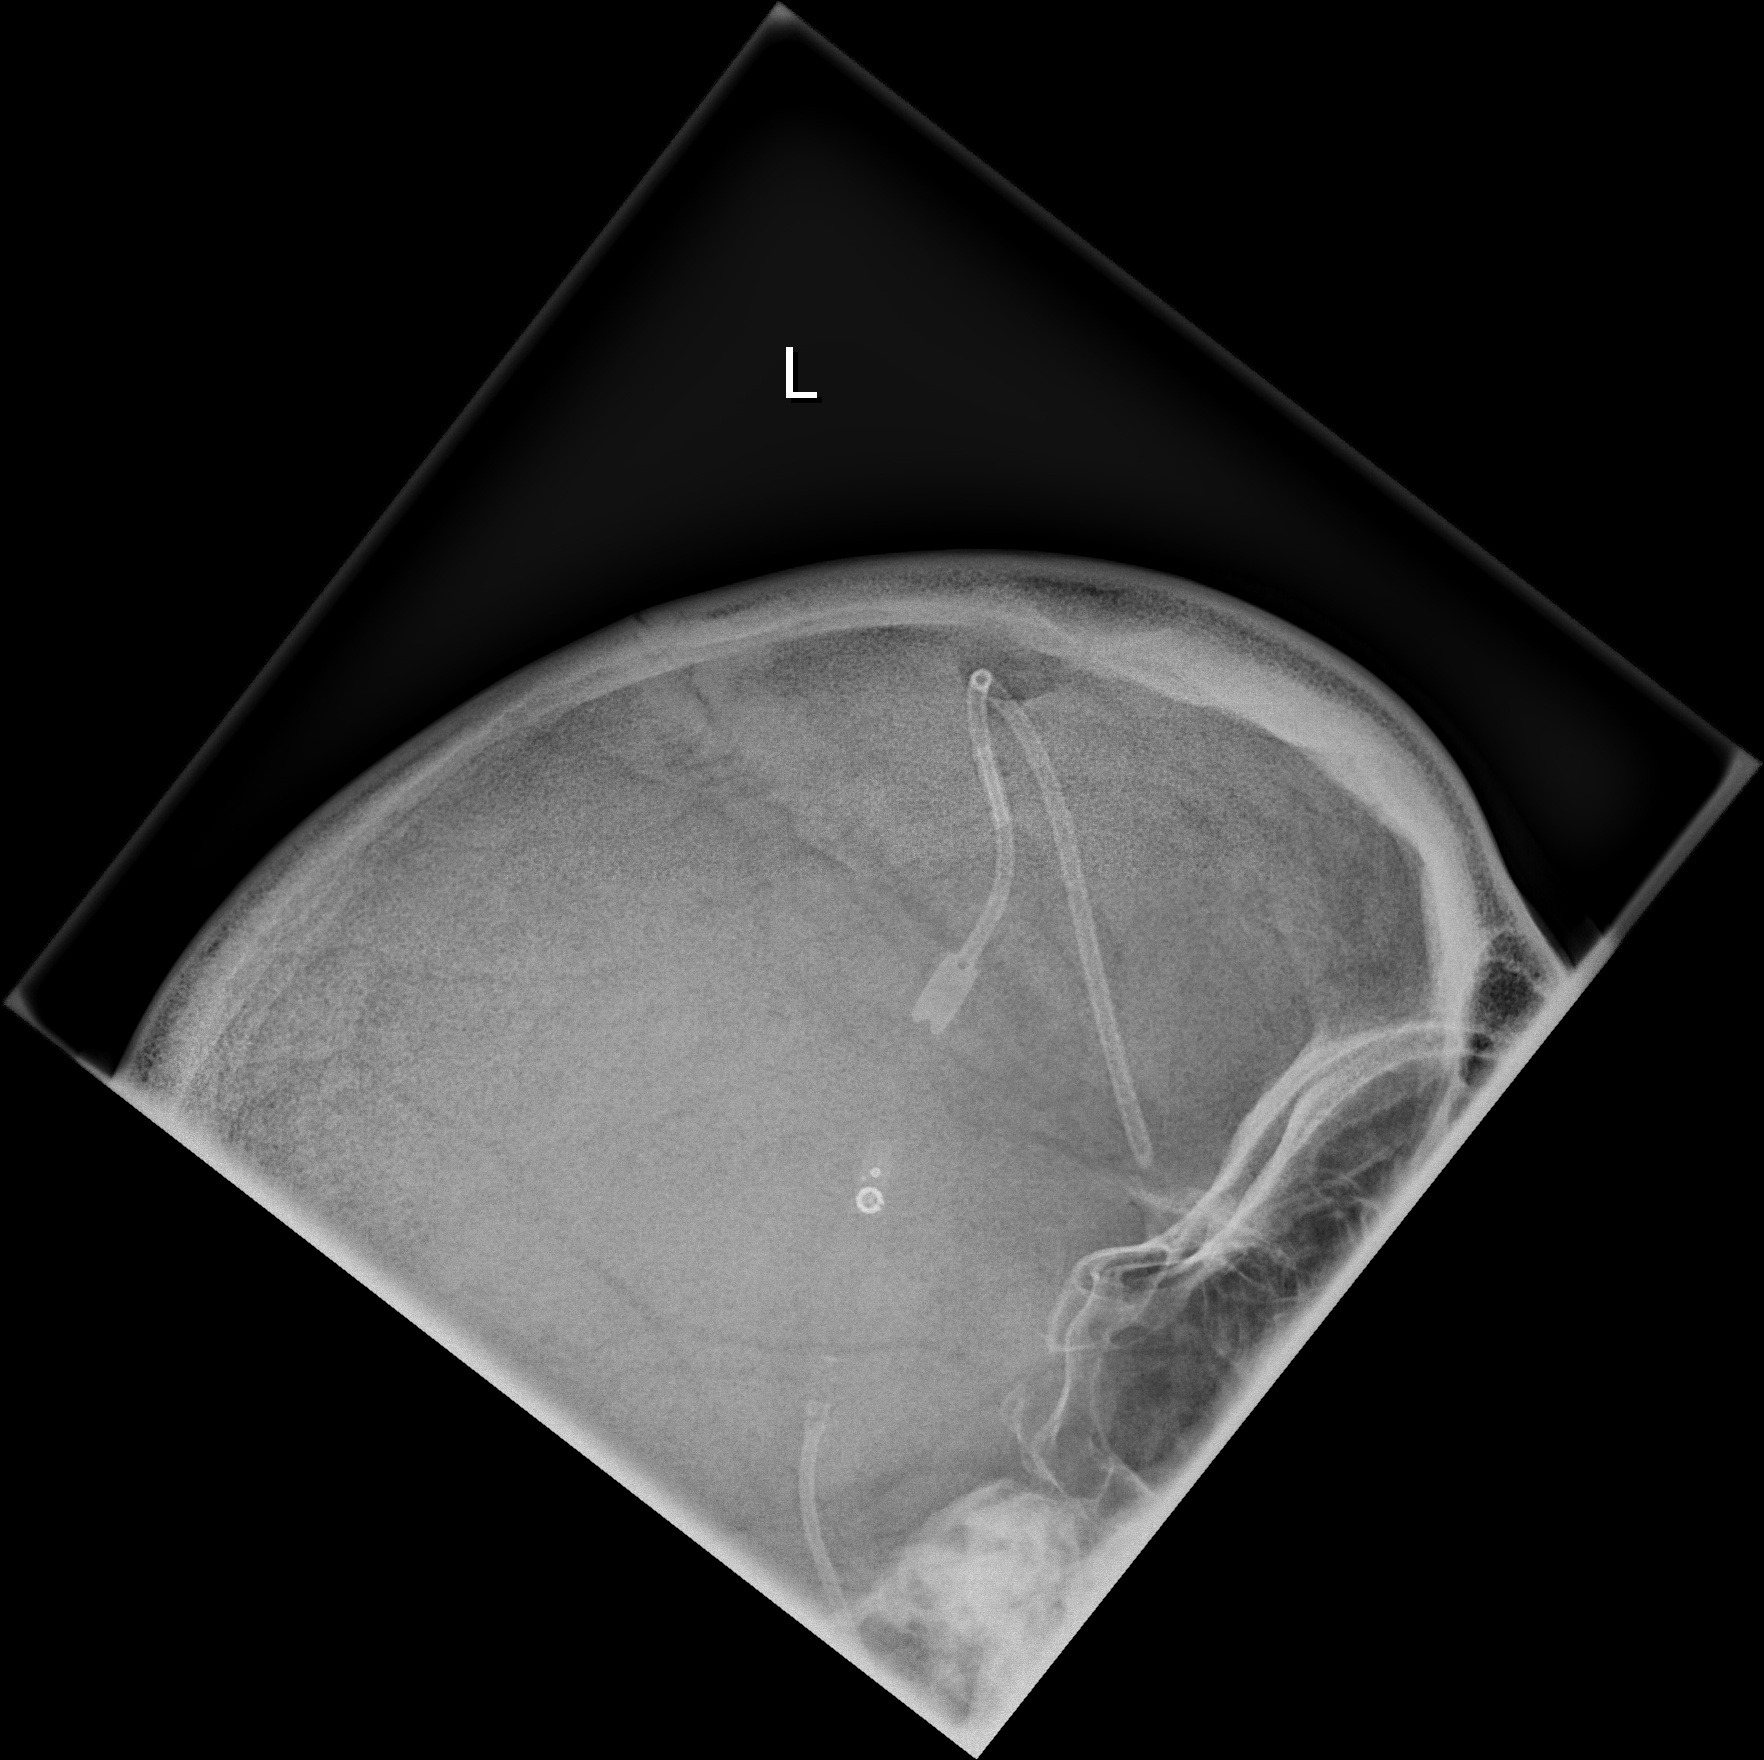Codman Hakim: (840, 1159, 900, 1238)
